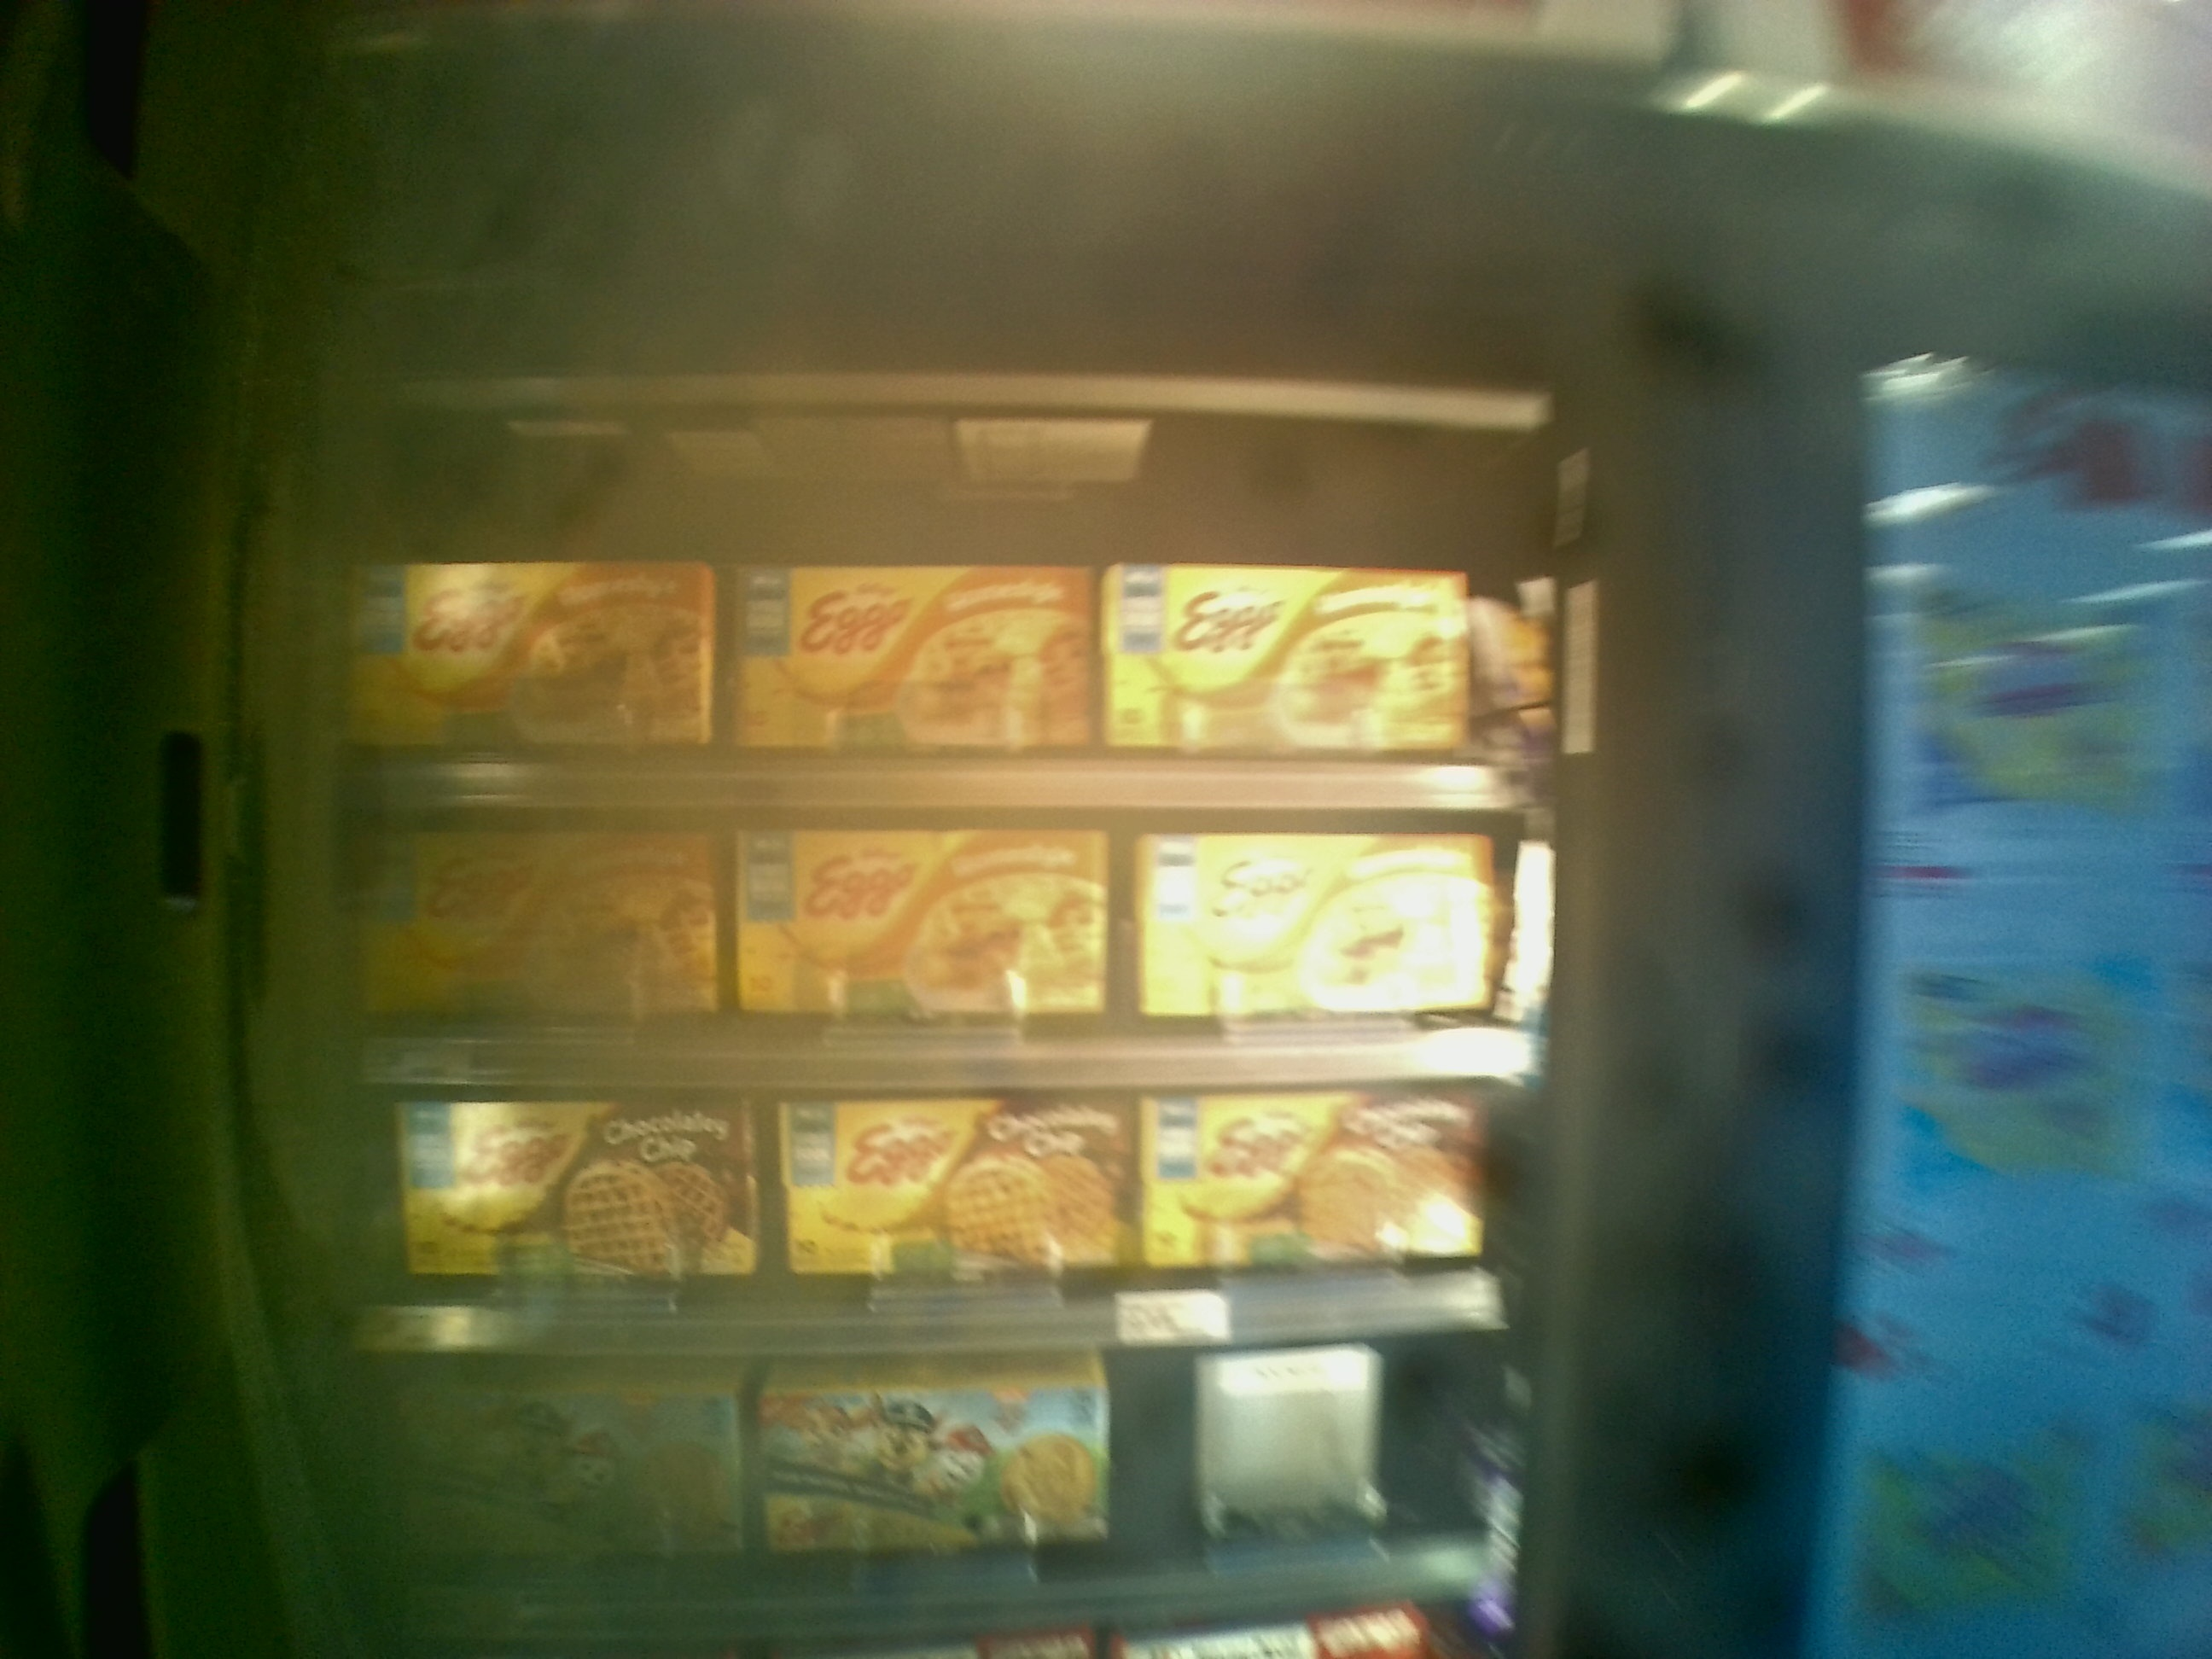shelf: (350, 368, 1538, 814)
